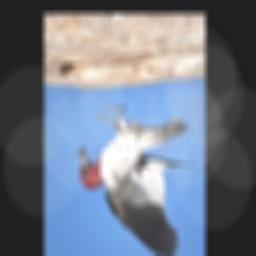Woodpecker: (75, 103, 196, 256)
